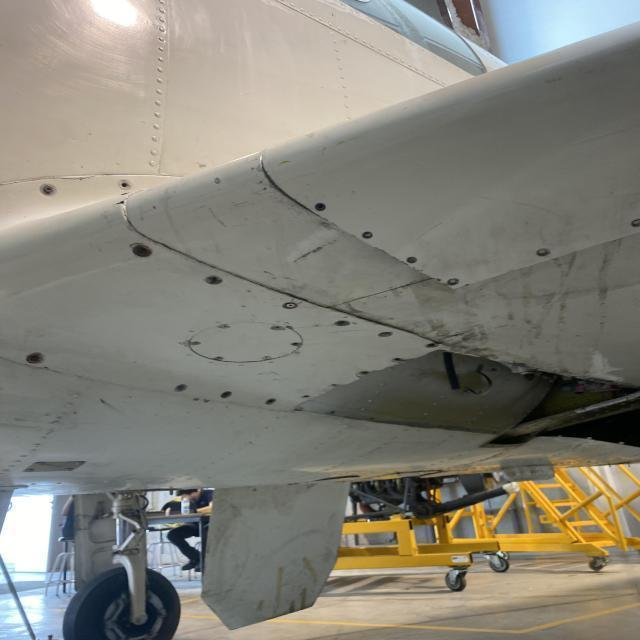Crack: (48, 165, 110, 183), (102, 199, 130, 208)
Missing_Fastener: (130, 243, 152, 258), (23, 350, 45, 364), (204, 274, 224, 288), (406, 254, 418, 266), (218, 390, 234, 399), (314, 203, 328, 213), (360, 230, 374, 240), (174, 383, 188, 392), (266, 397, 278, 407), (117, 181, 131, 189), (536, 248, 550, 256), (334, 319, 348, 326), (448, 278, 459, 286), (424, 342, 436, 349), (391, 356, 404, 362)
